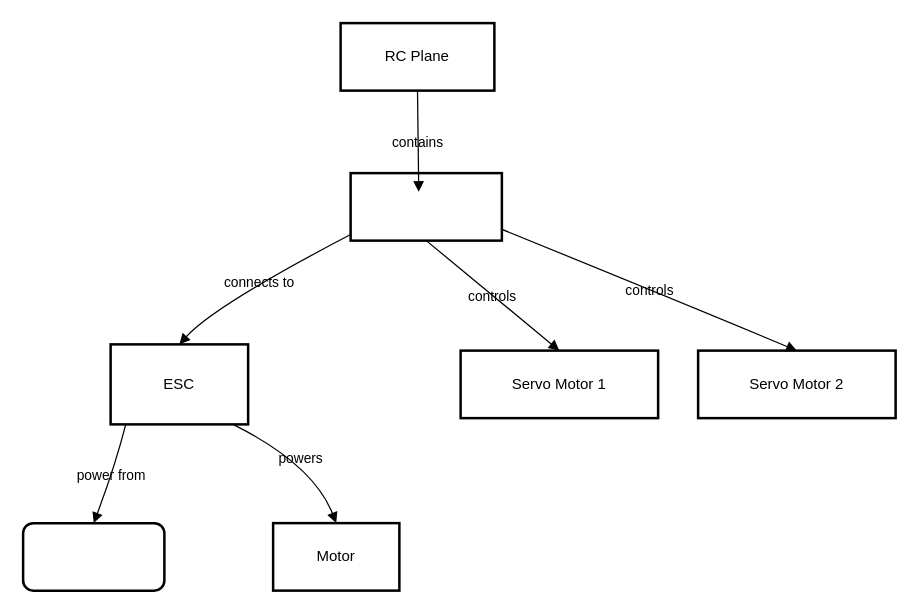
Some shapes in this 918 by 613 pixel diagram are drawn without their labels. The centre of each missing label's shape, as x and y in pixels:
"Battery" belongs at (x=93, y=556).
"Receiver" belongs at (x=425, y=206).
